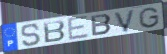B: (42, 20, 66, 44), (90, 13, 113, 37)
E: (66, 15, 91, 42)
G: (138, 6, 161, 29)
S: (20, 23, 42, 48)
V: (113, 8, 137, 33)
